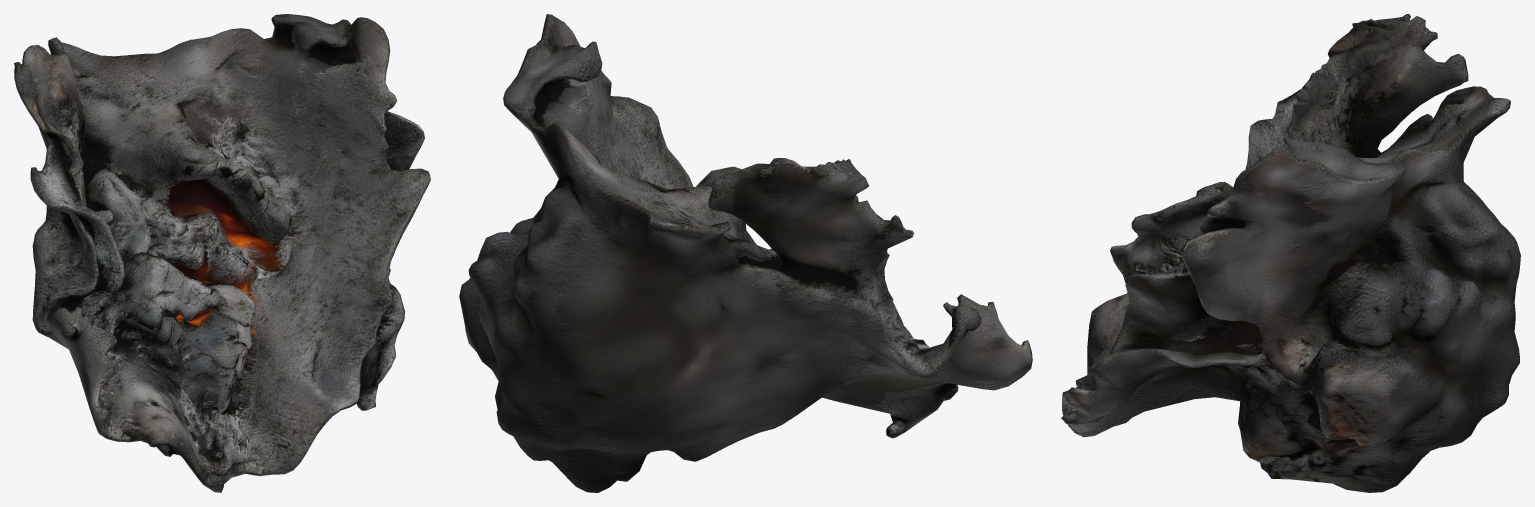
File: selected.glb
3 views of the same model, side by side, from view 1: azimuth 30°, elevation 25°; view 2: azimuth 150°, elevation 25°; view 3: azimuth 270°, elevation 25° (orthographic). The views are drawn at different scales.
Parts seen in each view (by area): view 1: tripo_node_83ea0f69-1658-4d0b-80f0-288bdd41c7ab; view 2: tripo_node_83ea0f69-1658-4d0b-80f0-288bdd41c7ab; view 3: tripo_node_83ea0f69-1658-4d0b-80f0-288bdd41c7ab.
Part boxes in pixels (x1=…): tripo_node_83ea0f69-1658-4d0b-80f0-288bdd41c7ab: x1=14, y1=14, x2=430, y2=492; tripo_node_83ea0f69-1658-4d0b-80f0-288bdd41c7ab: x1=459, y1=14, x2=1032, y2=492; tripo_node_83ea0f69-1658-4d0b-80f0-288bdd41c7ab: x1=1061, y1=14, x2=1520, y2=492.
Bounding box in the file's own units: 0.998 × 0.9395 × 0.9902.
Materials: 1 (1 with a texture image).
